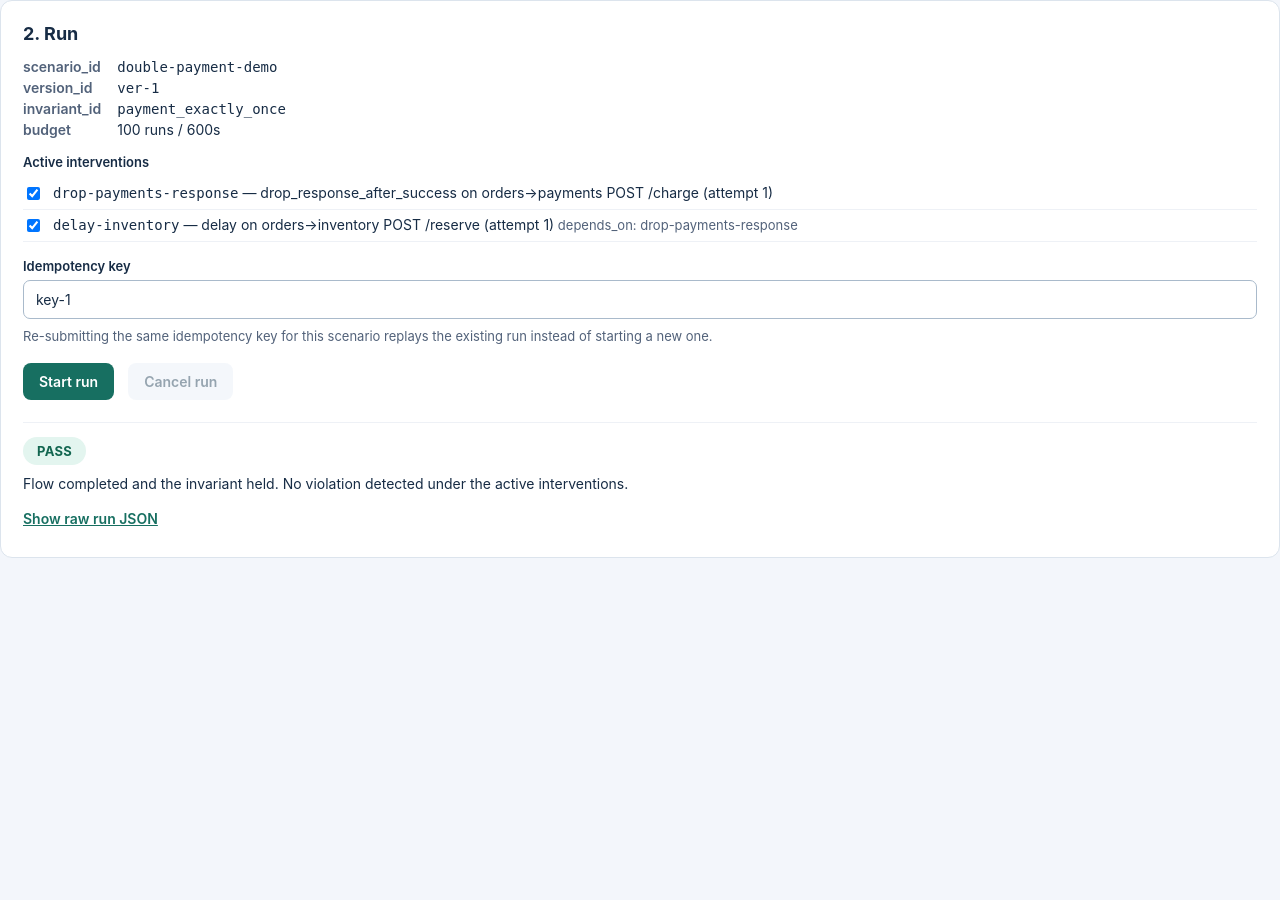
Test: <RunPanel/> › toggles the raw run JSON as a keyboard-focusable labelled region
Later steps or results of the test are not shown.
Click the button "Show raw run JSON" at (90, 518), box [23,506,158,530]
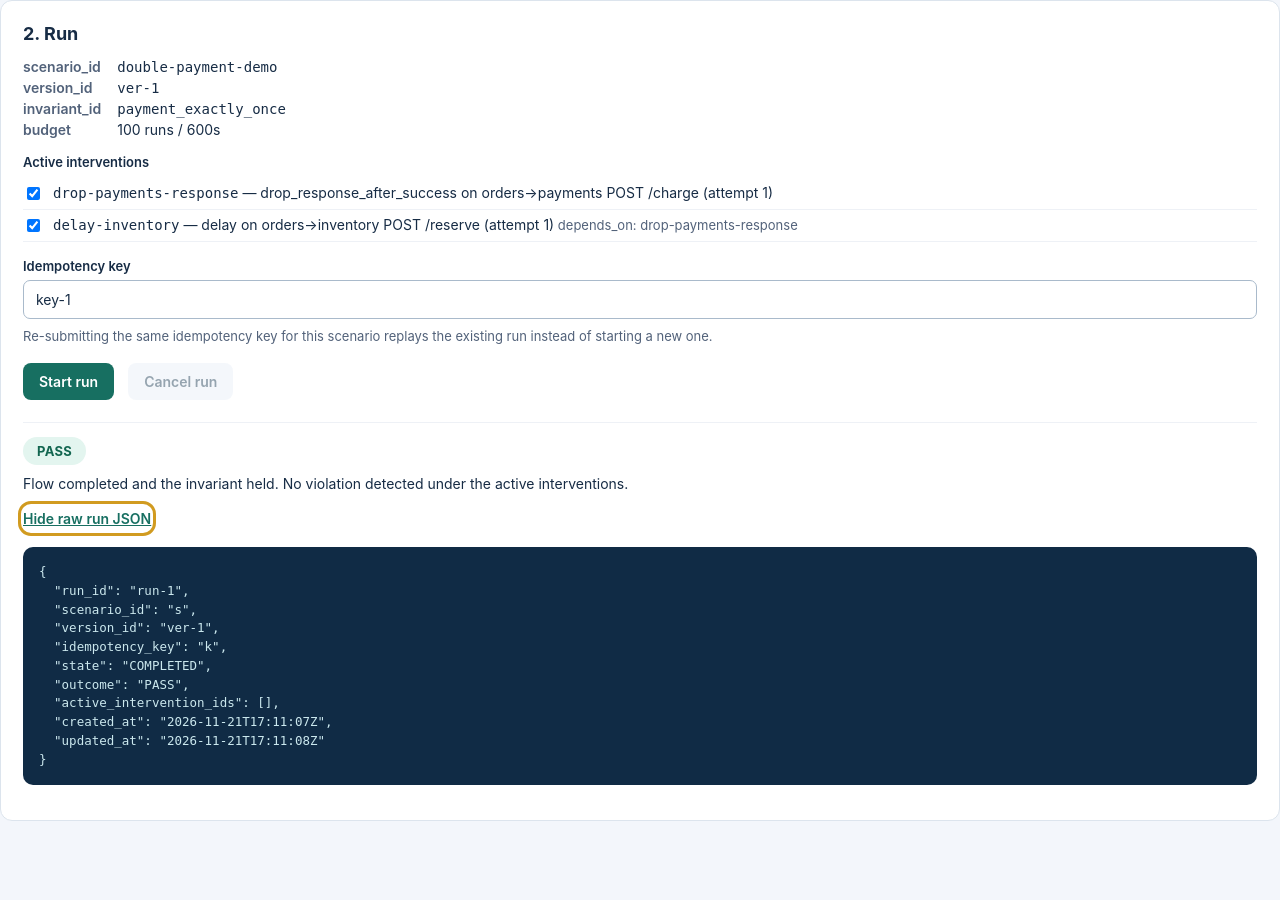
Check: the text named "Raw run JSON" shows "\"run_id\": \"run-1\"", box [39,564,332,766]
